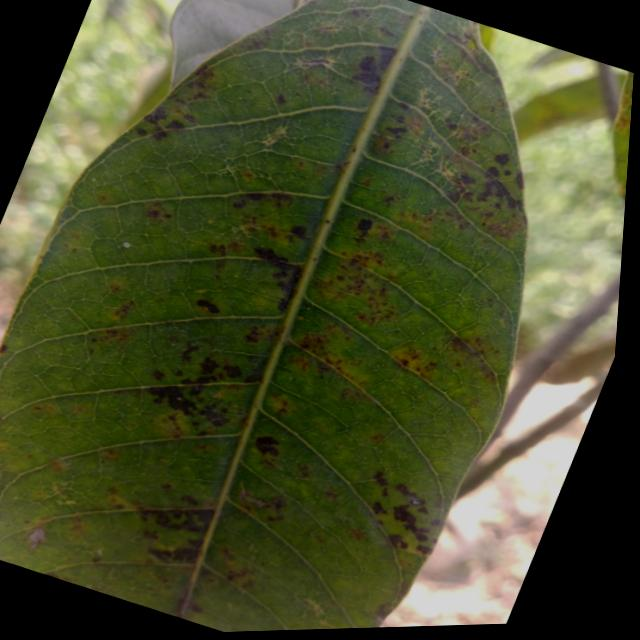Anthracnose: (208, 178, 357, 313), (326, 18, 439, 120), (151, 337, 260, 435), (125, 493, 228, 574), (390, 507, 418, 525)
Powdery Mildew: (407, 496, 421, 505)
black die: (255, 246, 286, 266), (171, 117, 186, 129)
